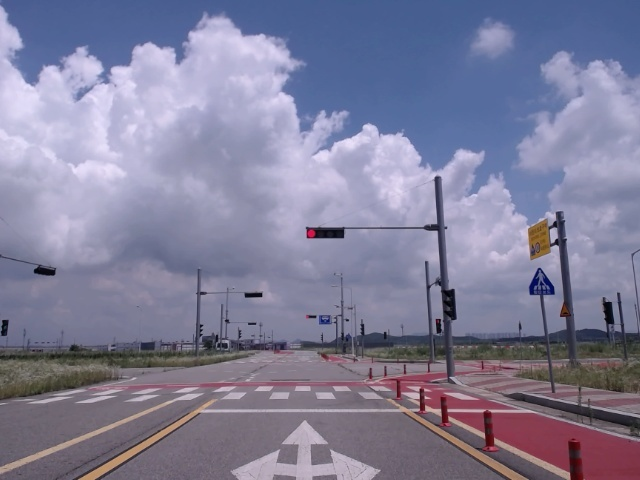red_4: (306, 227, 344, 239)
